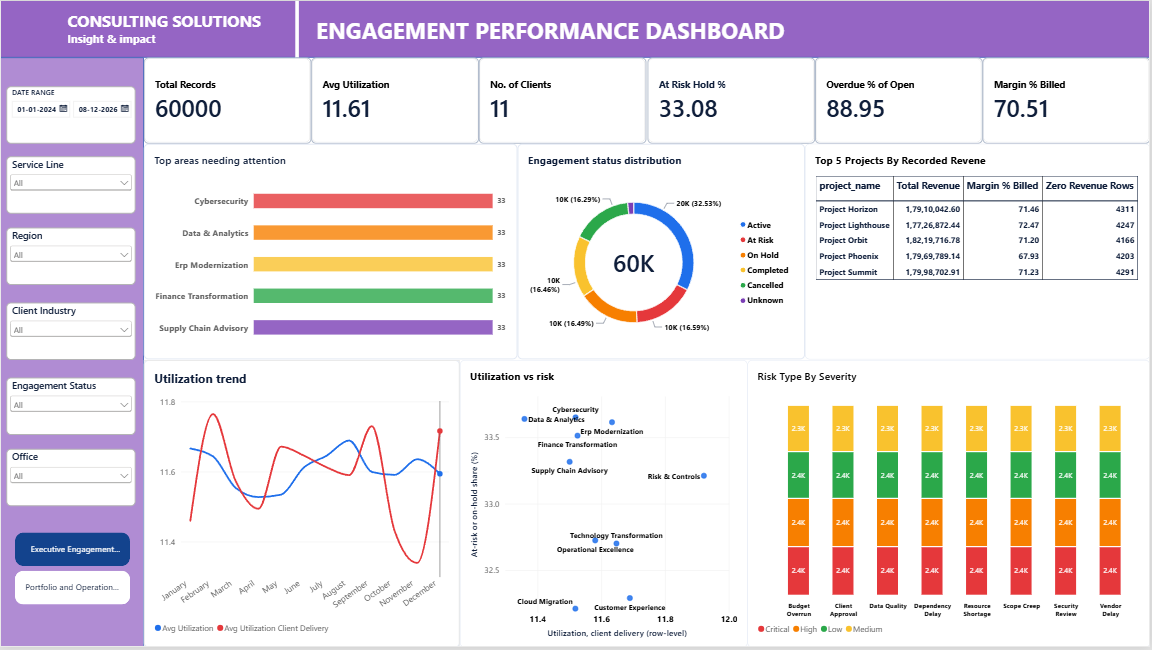

The page's visual inventory and layout, read from the dashboard file:
{"tool":"powerbi","page":{"name":"Executive Engagement Overview","canvas":[1920,1080],"ordinal":0},"visuals":[{"type":"group","id":"g1","title":"Group 2","box":[0,0,1920,1080],"z":0,"group":"g3"},{"type":"group","id":"g2","title":"Group 1","box":[0,0,1920,1080],"z":0,"group":"g1"},{"type":"shape","box":[0,0,1920,96],"z":0,"group":"g2"},{"type":"textbox","box":[112,16,368,64],"z":1000,"group":"g2"},{"type":"textbox","box":[528,24,816,72],"z":1000,"group":"g1"},{"type":"pageNavigator","box":[24,888,192,120],"z":1000,"group":"g3"},{"type":"shape","box":[480,0,32,96],"z":2000,"group":"g2"},{"type":"slicer","title":"DATE rANGE","fields":{"Values":["main_dataset.recorded_date"]},"box":[10,144,216,96],"z":2000,"group":"g1"},{"type":"cardVisual","fields":{"Data":["Measure.Total Records"]},"box":[240,96,280,144],"z":3000,"group":"g2"},{"type":"slicer","title":"DATE rANGE","fields":{"Values":["main_dataset.service_line"]},"box":[10,260,216,96],"z":3000,"group":"g1"},{"type":"group","id":"g3","title":"Group 3","box":[0,0,1920,1080],"z":3007},{"type":"cardVisual","fields":{"Data":["Max(01_Kpi.clients)"]},"box":[800,96,280,144],"z":4000,"group":"g2"},{"type":"slicer","title":"DATE rANGE","fields":{"Values":["main_dataset.region"]},"box":[10,380,216,96],"z":4000,"group":"g1"},{"type":"cardVisual","fields":{"Data":["Measure.At Risk Hold %"]},"box":[1081,96,280,144],"z":5000,"group":"g2"},{"type":"slicer","title":"DATE rANGE","fields":{"Values":["main_dataset.industry"]},"box":[10,505,216,96],"z":5000,"group":"g1"},{"type":"cardVisual","fields":{"Data":["Measure.Overdue % of Open"]},"box":[1361,96,280,144],"z":6000,"group":"g2"},{"type":"slicer","title":"DATE rANGE","fields":{"Values":["main_dataset.status"]},"box":[10,630,216,96],"z":6000,"group":"g1"},{"type":"cardVisual","fields":{"Data":["Measure.Margin % Billed"]},"box":[1640,96,280,144],"z":7000,"group":"g2"},{"type":"slicer","title":"DATE rANGE","fields":{"Values":["main_dataset.office"]},"box":[10,750,216,96],"z":7000,"group":"g1"},{"type":"shape","box":[0,96,240,984],"z":8000,"group":"g2"},{"type":"cardVisual","fields":{"Data":["Measure.Avg Utilization"]},"box":[520,96,280,144],"z":9000,"group":"g2"},{"type":"clusteredBarChart","title":"Top areas needing attention","fields":{"Category":["02_delivery_risk.segment"],"Y":["Measure.At Risk Hold %"]},"box":[240,240,624,360],"z":10000,"group":"g2"},{"type":"donutChart","title":"Engagement status distribution","fields":{"Category":["main_dataset.status"],"Y":["Measure.Total Records"]},"box":[864,240,480,360],"z":11000,"group":"g2"},{"type":"lineChart","title":"Utilization trend","fields":{"Category":["main_dataset.Month Start.Variation.Date Hierarchy.Month"],"Y":["Measure.Avg Utilization","Measure.Avg Utilization Client Delivery"]},"box":[240,600,528,480],"z":12000,"group":"g2"},{"type":"scatterChart","title":"Utilization vs risk","fields":{"Category":["main_dataset.service_line"],"X":["Measure.Avg Utilization Client Delivery"],"Y":["Measure.At Risk Hold %"]},"box":[768,600,480,480],"z":13000,"group":"g2"},{"type":"tableEx","title":"Top 5 Projects By Recorded Revene","fields":{"Values":["main_dataset.project_name","Measure.Total Revenue","Measure.Margin % Billed","Measure.Zero Revenue Rows"]},"box":[1344,240,576,360],"z":14000,"group":"g2"},{"type":"columnChart","title":"Risk Type By Severity","fields":{"Category":["07_risk_type_by_severity.risk_type"],"Series":["main_dataset.risk_severity"],"Y":["Measure.Total Records"]},"box":[1248,600,672,480],"z":15000,"group":"g2"}]}

Visuals, with their boxes in screenshot pixels (x1, y1, x2, y2), scaled from the page's 1920x1080 canvas onto the 1152x650 screenshot:
"Group 2" group: <bbox>0, 0, 1151, 649</bbox>
"Group 1" group: <bbox>0, 0, 1151, 649</bbox>
shape: <bbox>0, 0, 1151, 58</bbox>
textbox: <bbox>67, 10, 288, 48</bbox>
textbox: <bbox>317, 14, 806, 58</bbox>
pageNavigator: <bbox>14, 534, 130, 607</bbox>
shape: <bbox>288, 0, 307, 58</bbox>
"DATE rANGE" slicer: <bbox>6, 87, 136, 144</bbox>
cardVisual - Measure.Total Records: <bbox>144, 58, 312, 144</bbox>
"DATE rANGE" slicer: <bbox>6, 156, 136, 214</bbox>
"Group 3" group: <bbox>0, 0, 1151, 649</bbox>
cardVisual - Max(01_Kpi.clients): <bbox>480, 58, 648, 144</bbox>
"DATE rANGE" slicer: <bbox>6, 229, 136, 286</bbox>
cardVisual - Measure.At Risk Hold %: <bbox>649, 58, 817, 144</bbox>
"DATE rANGE" slicer: <bbox>6, 304, 136, 362</bbox>
cardVisual - Measure.Overdue % of Open: <bbox>817, 58, 985, 144</bbox>
"DATE rANGE" slicer: <bbox>6, 379, 136, 437</bbox>
cardVisual - Measure.Margin % Billed: <bbox>984, 58, 1151, 144</bbox>
"DATE rANGE" slicer: <bbox>6, 451, 136, 509</bbox>
shape: <bbox>0, 58, 144, 649</bbox>
cardVisual - Measure.Avg Utilization: <bbox>312, 58, 480, 144</bbox>
"Top areas needing attention" clusteredBarChart: <bbox>144, 144, 518, 361</bbox>
"Engagement status distribution" donutChart: <bbox>518, 144, 806, 361</bbox>
"Utilization trend" lineChart: <bbox>144, 361, 461, 649</bbox>
"Utilization vs risk" scatterChart: <bbox>461, 361, 749, 649</bbox>
"Top 5 Projects By Recorded Revene" tableEx: <bbox>806, 144, 1151, 361</bbox>
"Risk Type By Severity" columnChart: <bbox>749, 361, 1151, 649</bbox>
